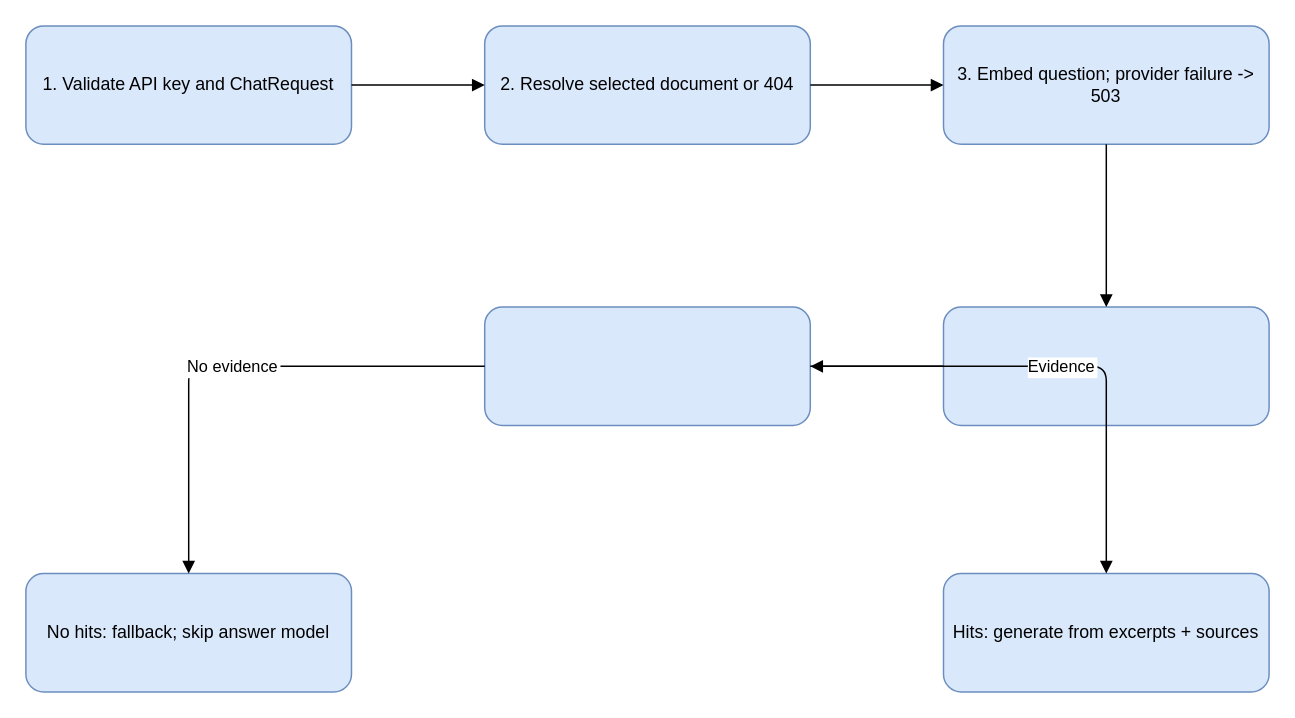
Image size: 1295x718. Some labels were removed from this diagram. The centre of each missing label's shape, as x and y in pixels:
4. Cosine similarity + threshold + top-k: [1105,366]
5. LangGraph conditional edge: [646,366]
